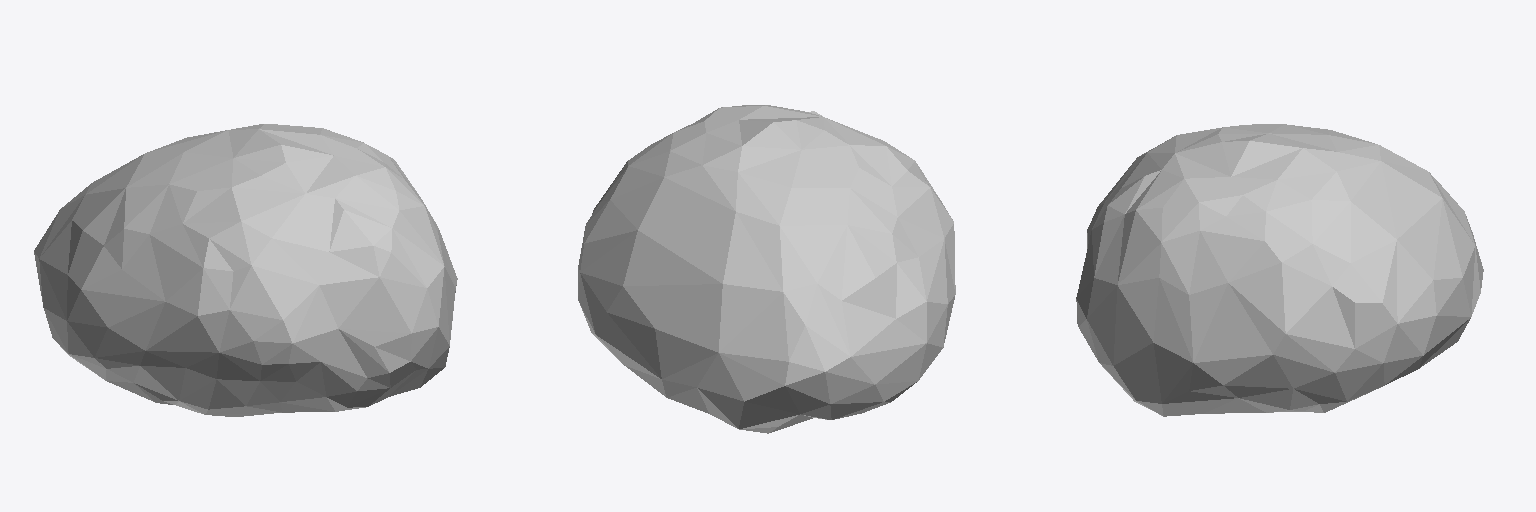
File: asteroizi.obj
3 views of the same model, side by side, from view 1: azimuth 30°, elevation 25°; view 2: azimuth 150°, elevation 25°; view 3: azimuth 270°, elevation 25° (orthographic).
Parts seen in each view (by area): view 1: Asteroid_05; view 2: Asteroid_05; view 3: Asteroid_05.
Part boxes in pixels (bbox=[...]): Asteroid_05: bbox=[34, 124, 457, 416]; Asteroid_05: bbox=[578, 105, 955, 433]; Asteroid_05: bbox=[1076, 124, 1483, 416].
Size of the model in its own units: 1.03 by 0.6804 by 1.05.